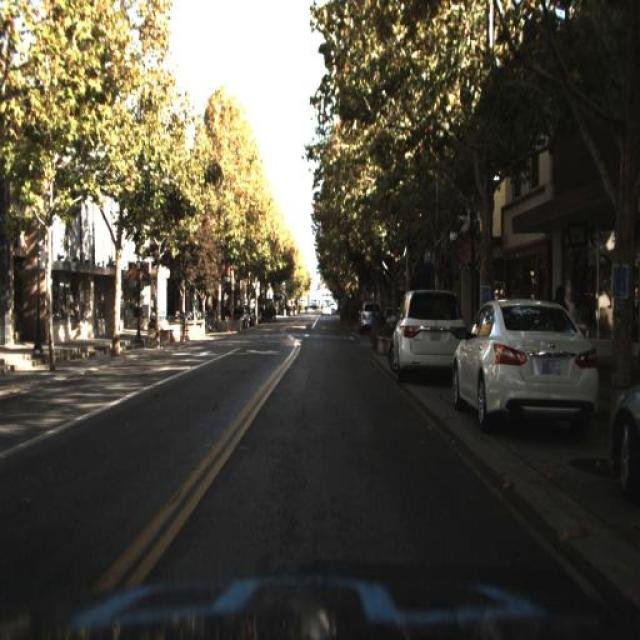car: (451, 294, 601, 430), (390, 283, 464, 382), (608, 374, 640, 500), (356, 298, 380, 342)
